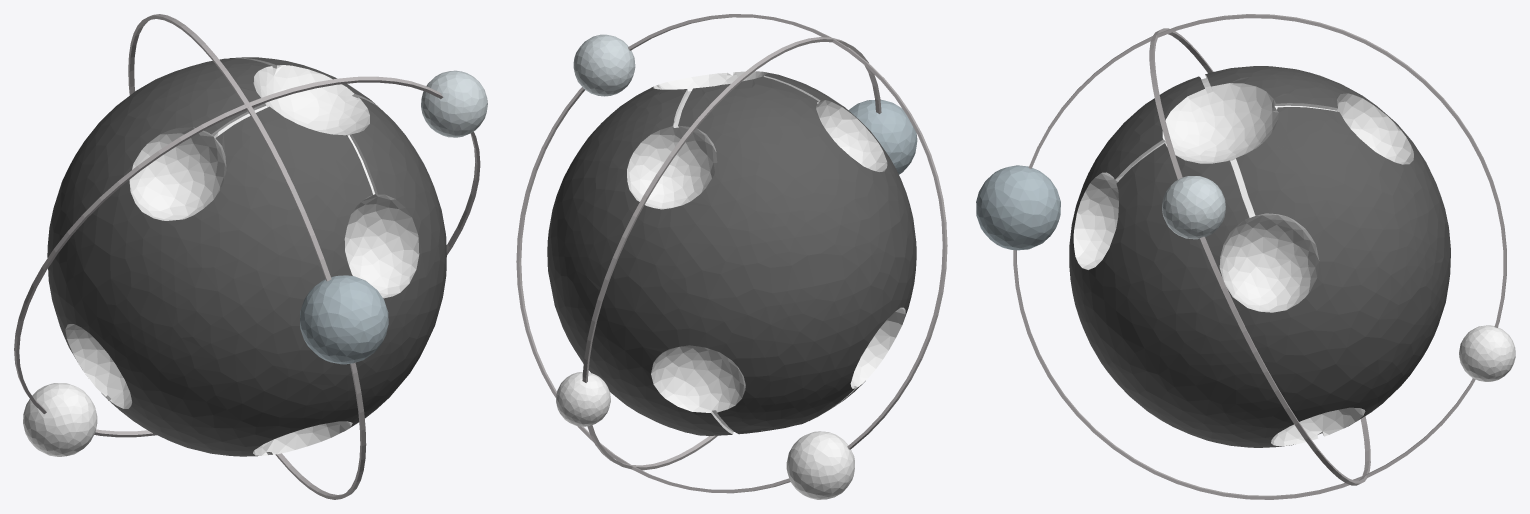
File: PlanetAtom.glb
3 renders of one model, left to right at view 1: azimuth 30°, elevation 25°; view 2: azimuth 150°, elevation 25°; view 3: azimuth 270°, elevation 25°, orthographic. The views are drawn at different scales.
Parts seen in each view (by area): view 1: Planet_13; view 2: Planet_13; view 3: Planet_13.
Boxes of the visible parts, x1,y1,x2,y2 form: Planet_13: (14, 14, 487, 499); Planet_13: (516, 14, 947, 499); Planet_13: (976, 14, 1515, 499).
Bounding box in the file's own units: 25.97 × 25.43 × 28.25.
Materials: 1 (1 with a texture image).
